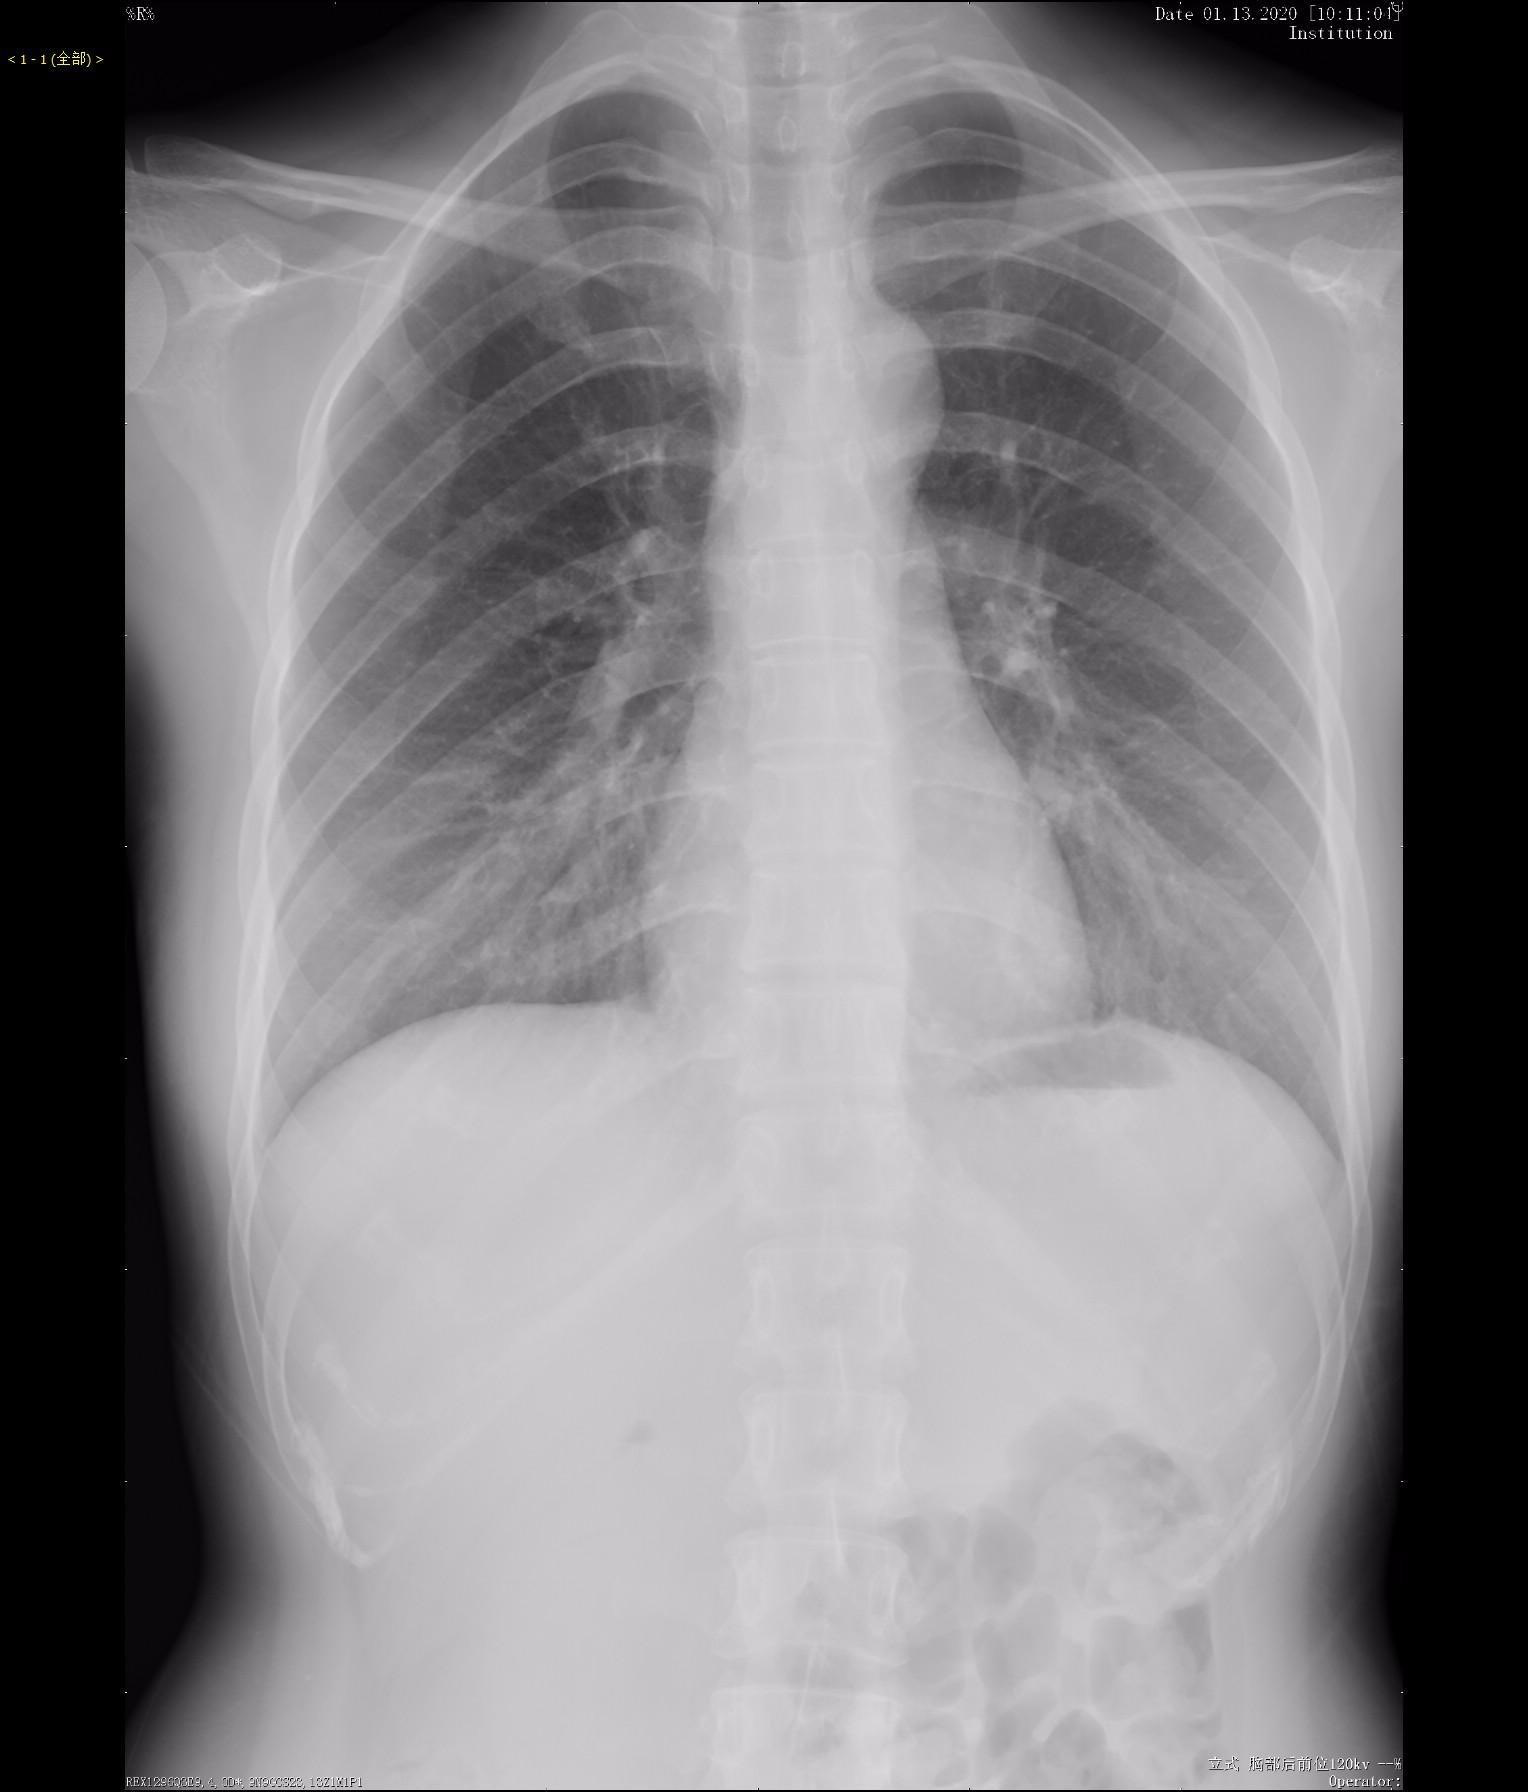Mildw: (249, 99, 740, 1176), (850, 91, 1348, 1155)
